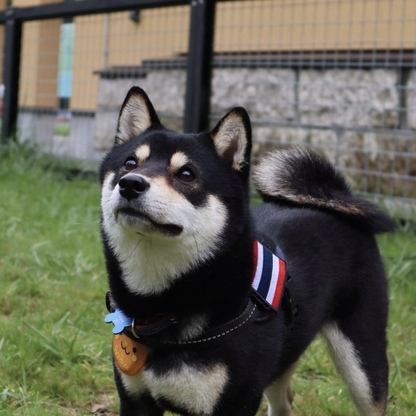shiba: (88, 81, 402, 416)
